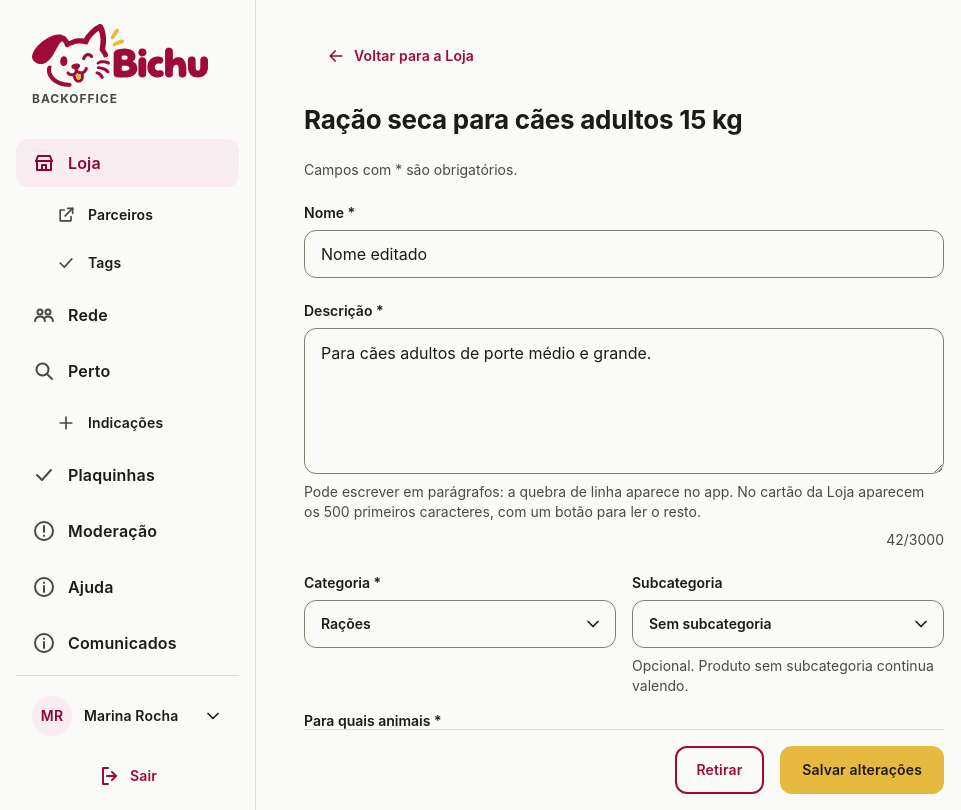
Test case: defeito 3: rascunho restaurado usa o ETag da leitura original › depois do login, o If-Match e o ETag antigo; alguem salvou no meio: 412 com o texto L6 e Recarregar
The width and height of the screenshot is (961, 810).
Expected: the field labelled "Nome *" holds "Nome editado", [304,230,944,278]
Click the button "Salvar alterações" at (862, 770), box [780,746,944,794]
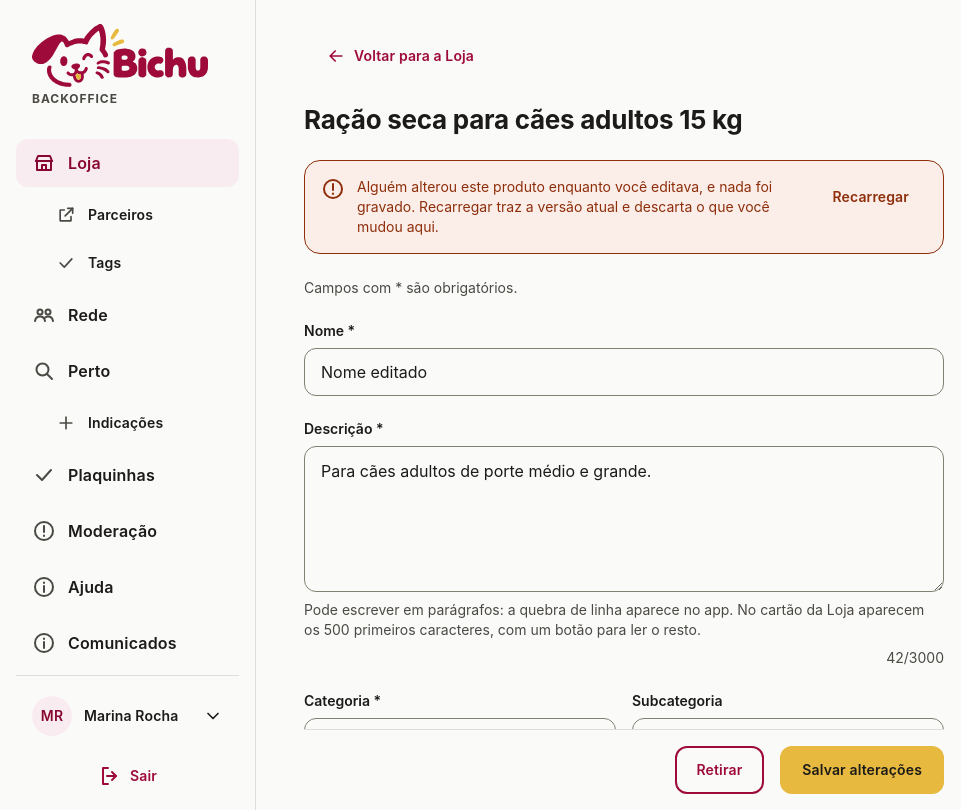
Expected: the text "Alguém alterou este produto enquanto você editava, e nada foi gravado. Recarregar traz a versão atual e descarta o que v" is shown, [357,178,772,235]
Expected: the button "Recarregar" is shown, [814,177,927,217]
